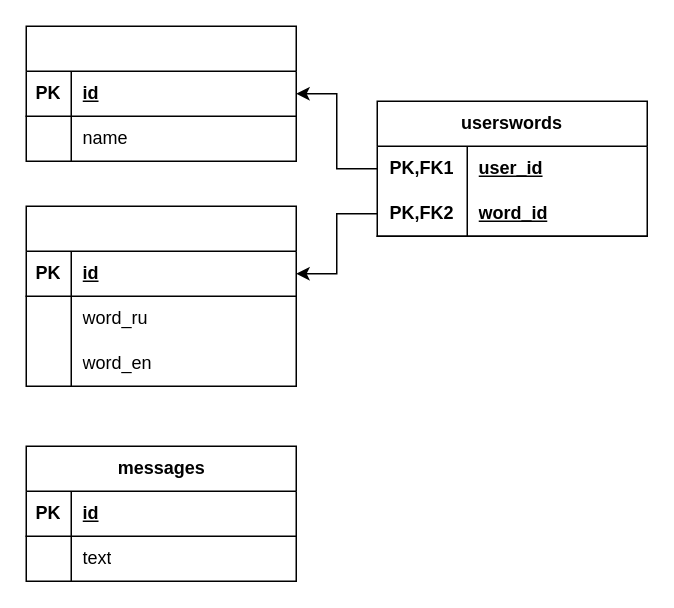
This 674x608 diagram has some shape labels left out. The box of each missing label's shape, as (x1, y1, x2, y2) in pixels:
users: (25, 25, 296, 161)
words: (25, 205, 296, 386)
